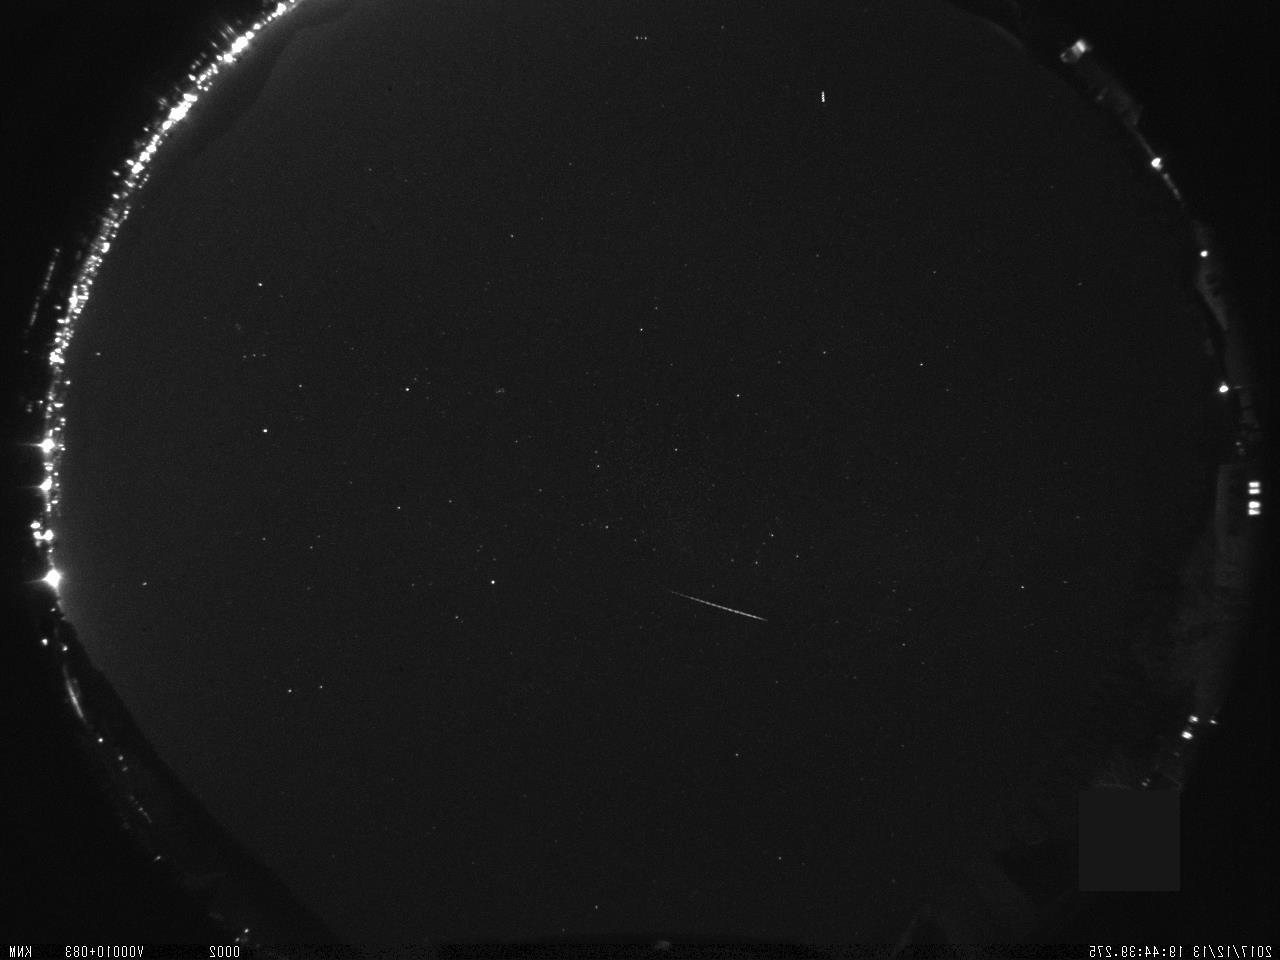meteor: (651, 584, 782, 629)
